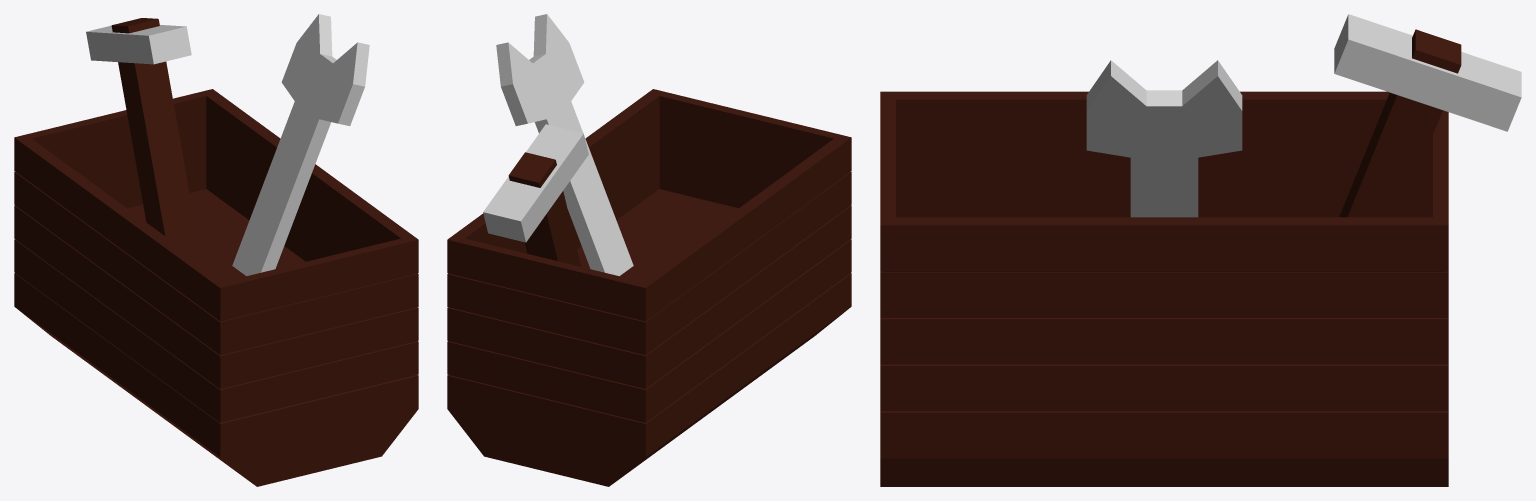
File: instruments.fbx
The picture shows the model from 3 angles, left to right: view 1: azimuth 30°, elevation 25°; view 2: azimuth 150°, elevation 25°; view 3: azimuth 270°, elevation 25°; orthographic projection. The views are drawn at different scales.
Parts seen in each view (by area): view 1: Cube; view 2: Cube; view 3: Cube.
Part boxes in pixels (bbox=[...]): Cube: bbox=[14, 14, 418, 486]; Cube: bbox=[447, 14, 851, 486]; Cube: bbox=[880, 14, 1521, 486].
Bounding box in the file's own units: 70.18 × 97.34 × 121.
